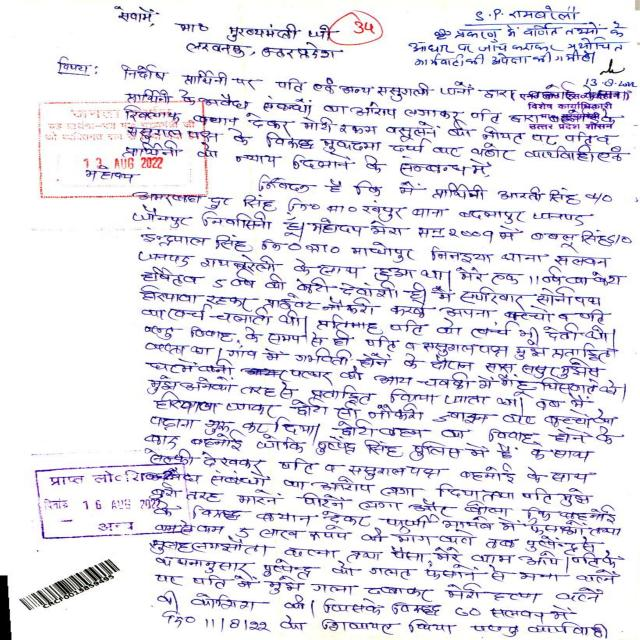antritgovtstamp: (29, 462, 209, 538), (519, 52, 639, 138)
barcode: (20, 558, 136, 614)
jantadarsan: (35, 100, 210, 200)
